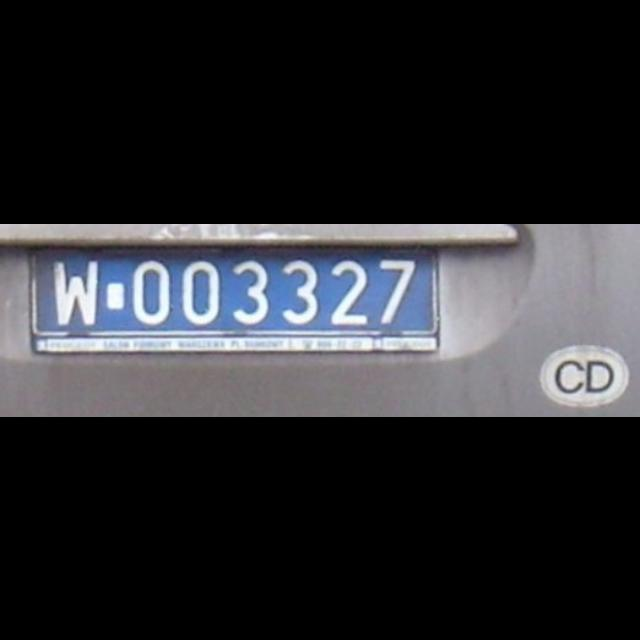pl_license_plate: (36, 250, 430, 328)
